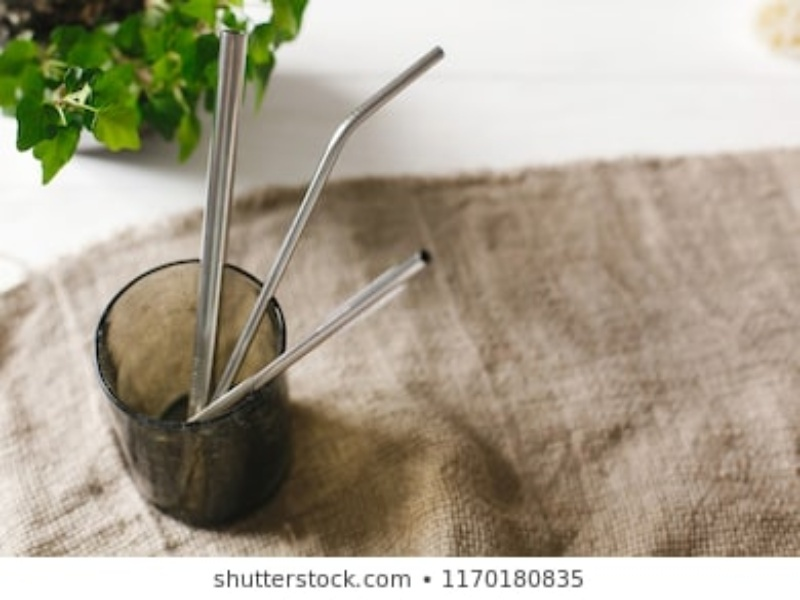straw: (209, 35, 455, 418), (186, 247, 443, 421), (174, 24, 252, 418)
